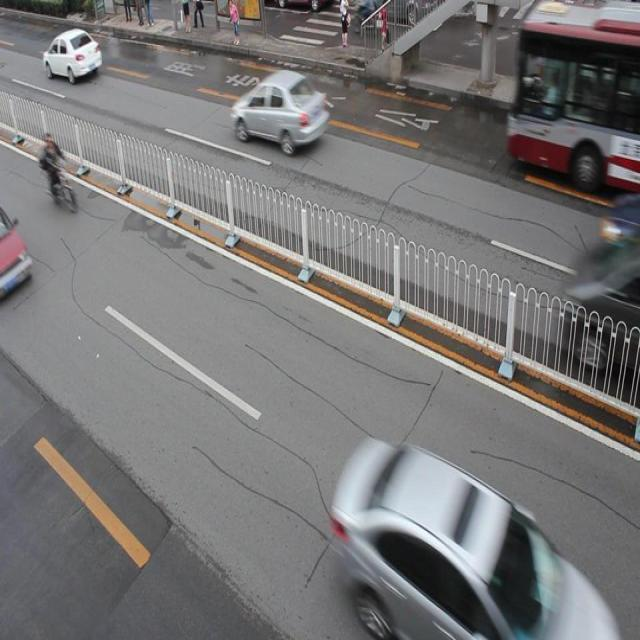car: (337, 437, 614, 640), (232, 67, 330, 151), (43, 27, 103, 81)
van: (506, 1, 640, 189)
